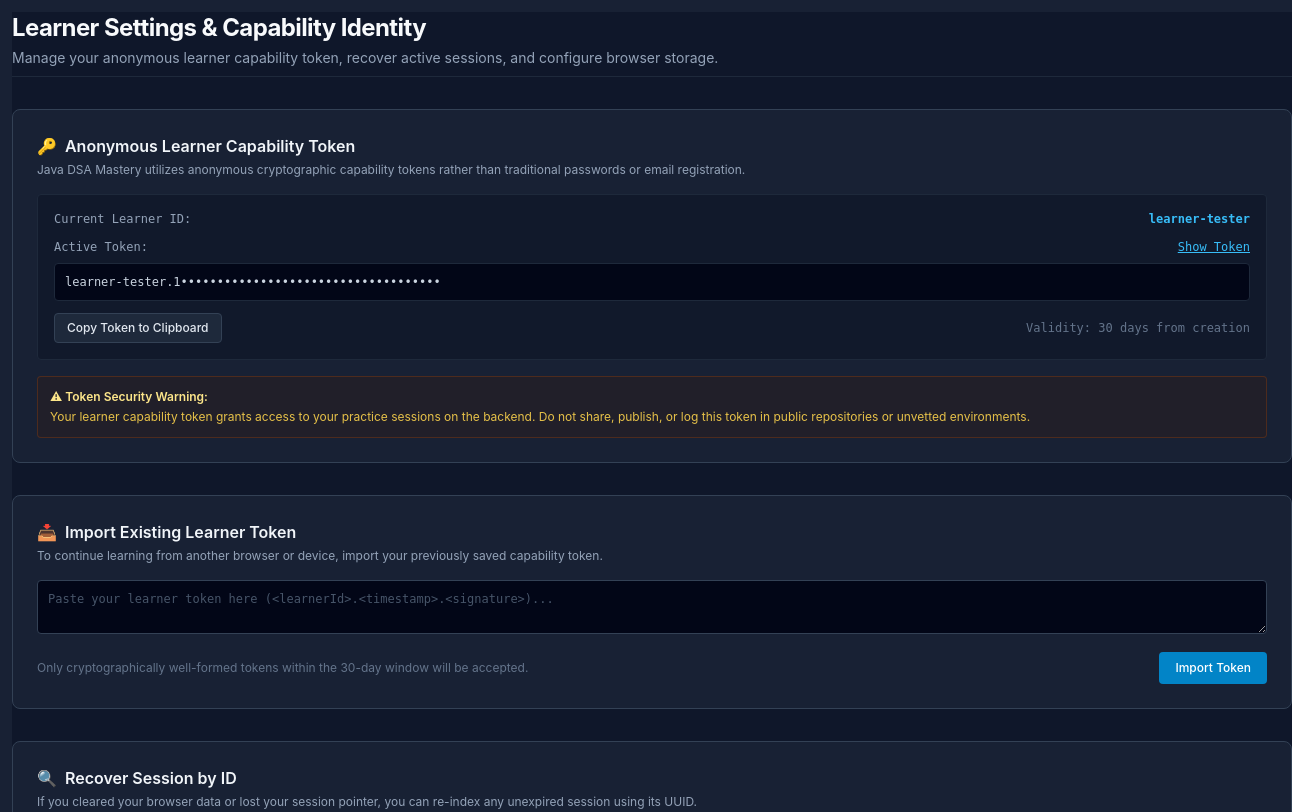
SettingsView Component › copies token to clipboard when button is clicked
Step 1. Click the button with test id "btn-copy-token" → coordinates (138, 328), box [54, 313, 222, 343]
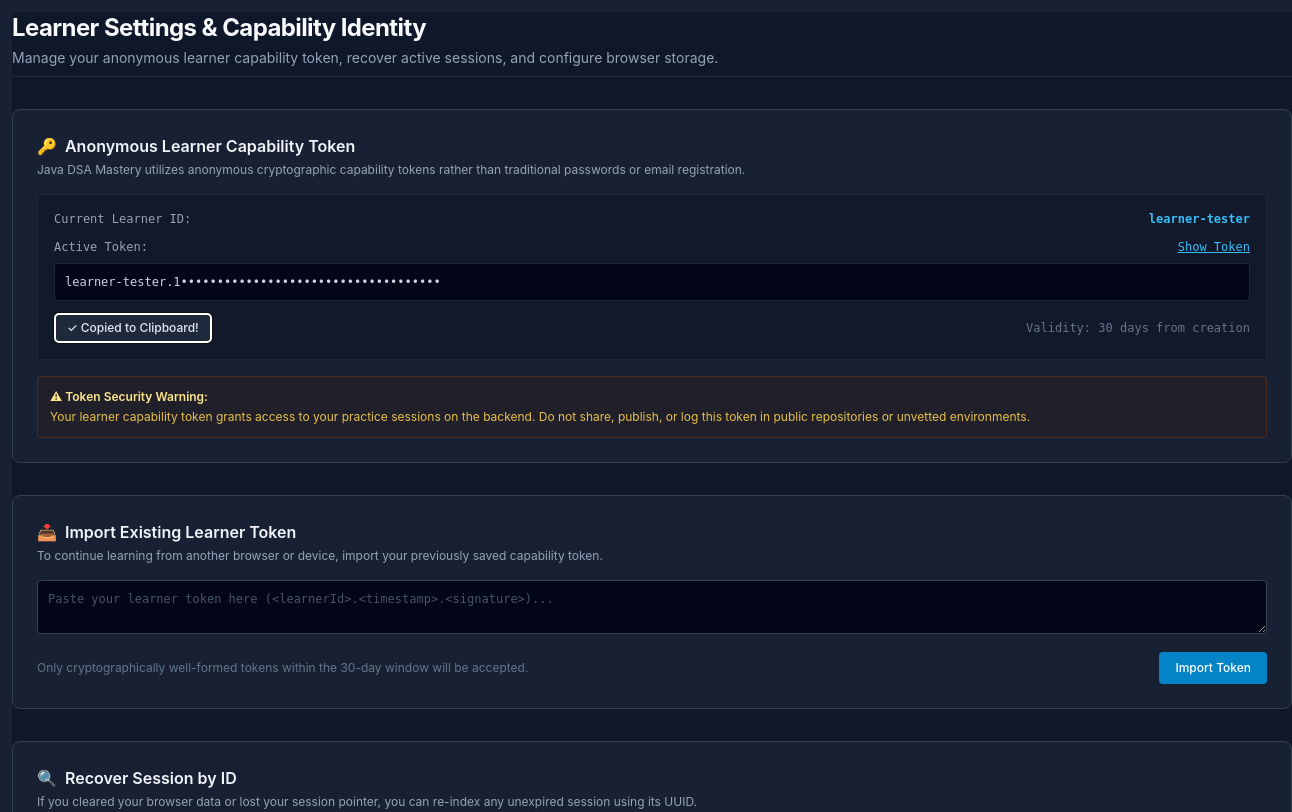
Result: the button "✓ Copied to Clipboard!" is shown at [54, 313, 212, 343]
